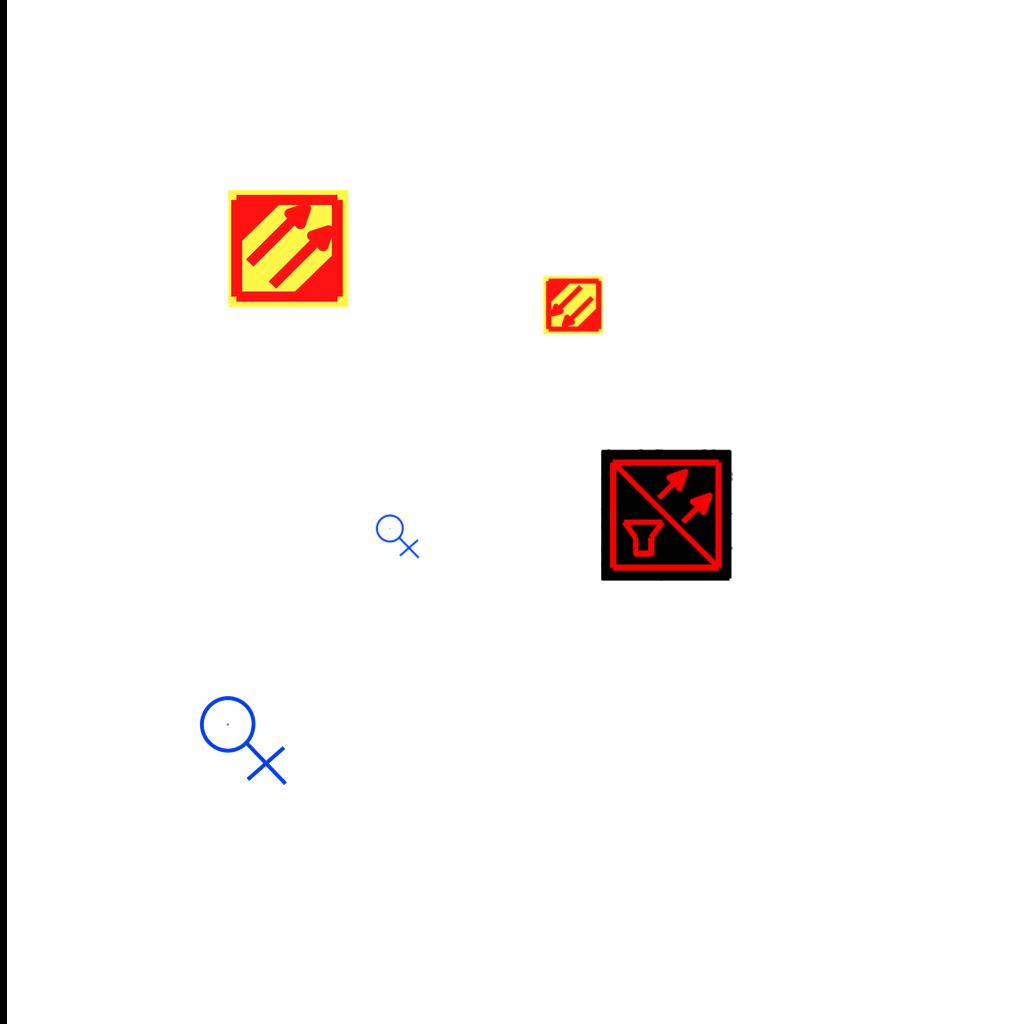ASR_Ansaugrauchmelder: (226, 186, 351, 311), (542, 274, 604, 336)
Elektroanschluss_allgemein_230V_Geraeteanschlussdose_230V: (198, 687, 292, 786), (375, 510, 422, 559)
OKW_Multisensormelder_(Kombination_optischer_Rauch-Kahlenmonoxid_Waerme-Melder): (601, 449, 733, 581)
